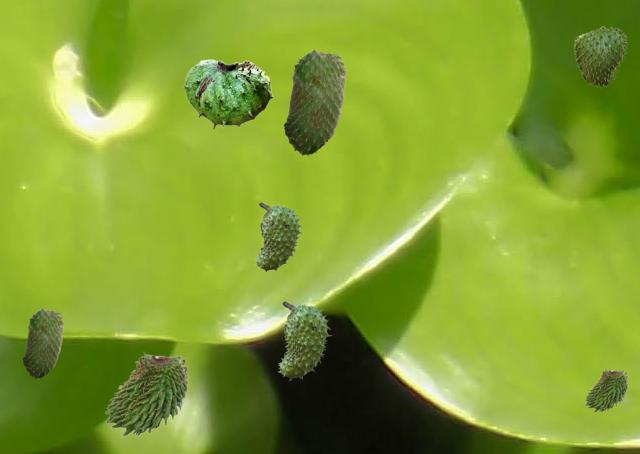guyabano: (104, 351, 188, 435), (283, 49, 346, 155), (183, 59, 272, 129), (277, 301, 331, 380), (254, 202, 302, 272), (574, 26, 627, 87), (22, 308, 63, 378), (584, 368, 627, 411)
